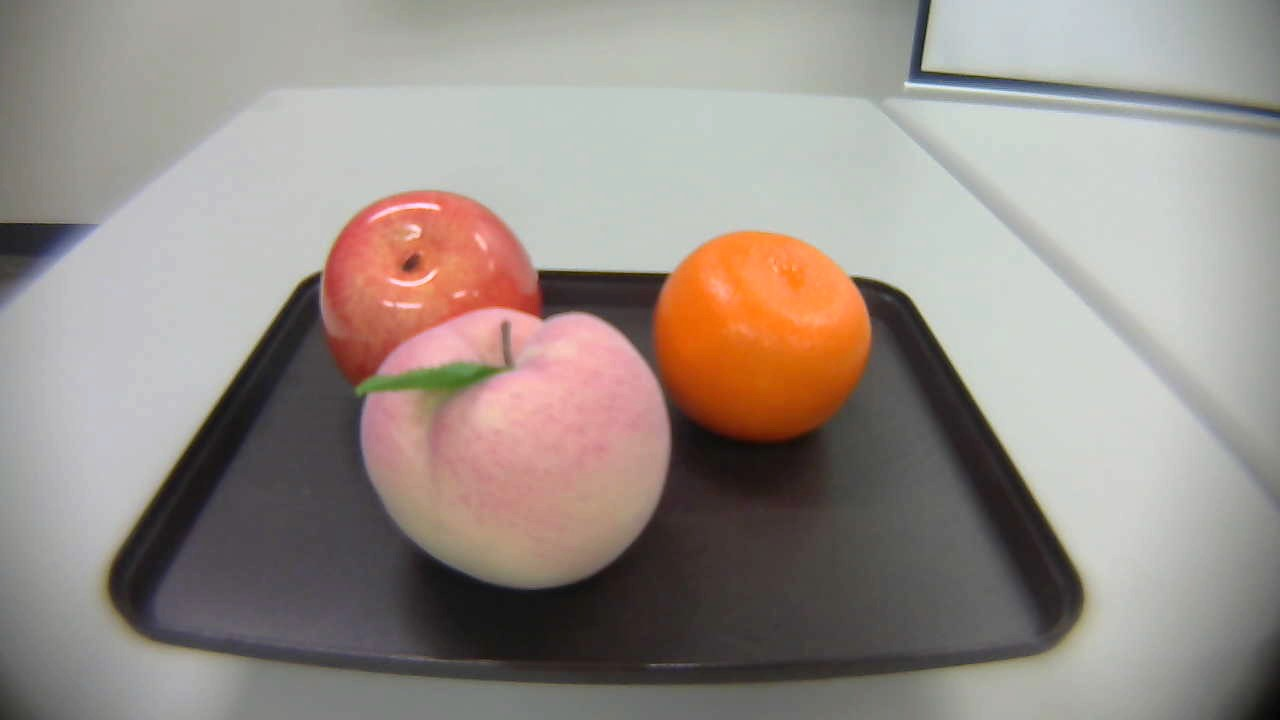orange: (649, 232, 875, 447)
peach: (334, 306, 673, 595)
red apple: (294, 188, 547, 385)
